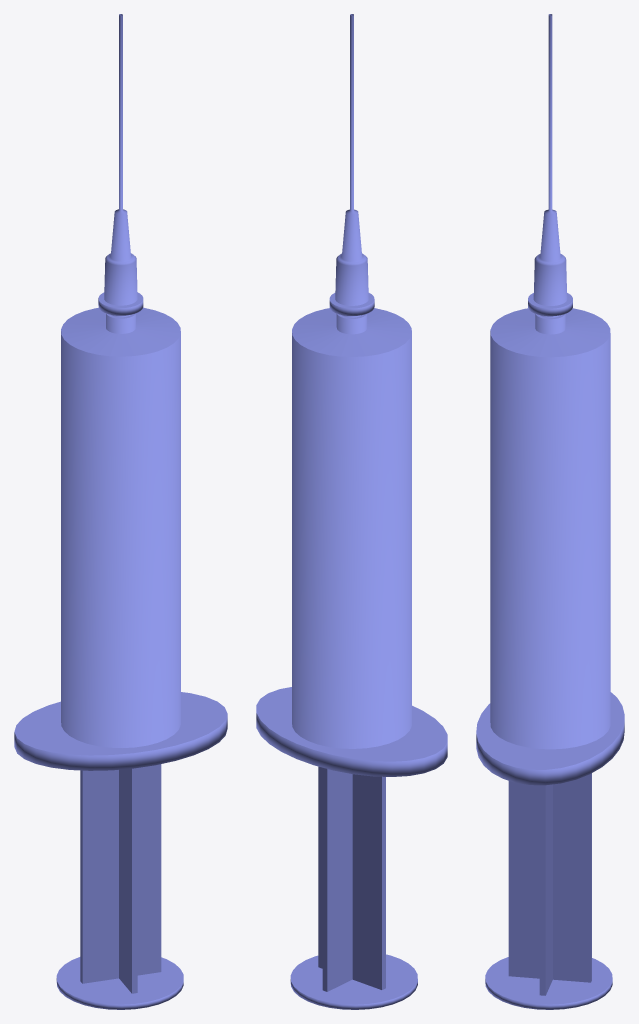
Rendered from syringe-colors.glb.
3 renders of one model, left to right at view 1: azimuth 30°, elevation 25°; view 2: azimuth 150°, elevation 25°; view 3: azimuth 270°, elevation 25°, orthographic.
Visible parts, largest first — view 1: Шприц на контур; view 2: Шприц на контур; view 3: Шприц на контур.
Part boxes in pixels (<box>): Шприц на контур: <box>14,14,227,1009</box>; Шприц на контур: <box>256,14,447,1009</box>; Шприц на контур: <box>476,14,624,1009</box>.
Size of the model in its own units: 0.9602 by 4.72 by 0.6552.
